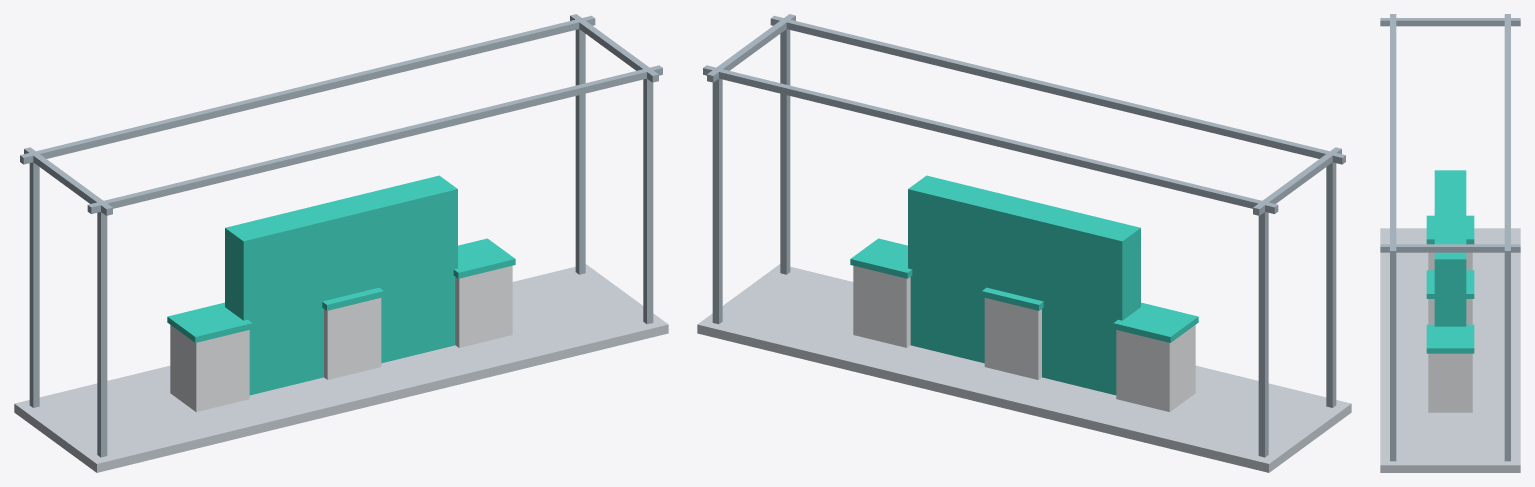
The picture shows the model from 3 angles, left to right: view 1: azimuth 30°, elevation 25°; view 2: azimuth 150°, elevation 25°; view 3: azimuth 270°, elevation 25°; orthographic projection. The views are drawn at different scales.
Visible parts, largest first — view 1: Exhibition Booth Concept; view 2: Exhibition Booth Concept; view 3: Exhibition Booth Concept.
Boxes of the visible parts, bbox=[...] form: Exhibition Booth Concept: bbox=[14, 14, 668, 472]; Exhibition Booth Concept: bbox=[697, 14, 1351, 472]; Exhibition Booth Concept: bbox=[1380, 14, 1520, 472].
Size of the model in its own units: 8 by 3.49 by 2.
